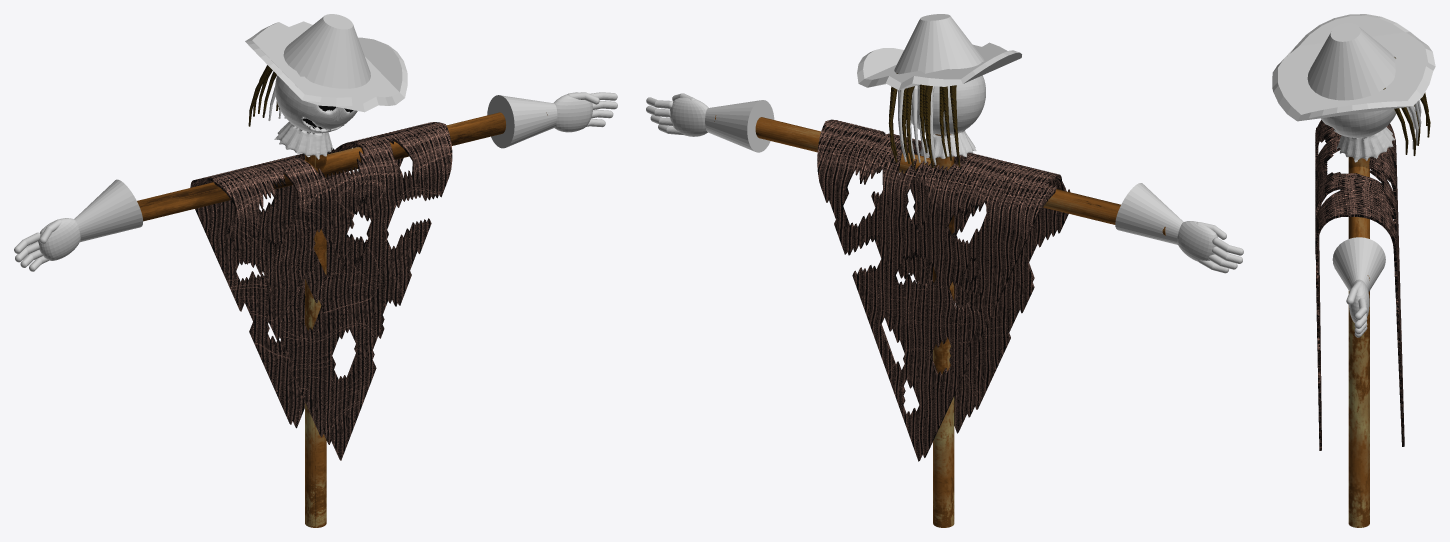
File: Пугало2.fbx
The picture shows the model from 3 angles, left to right: view 1: azimuth 30°, elevation 25°; view 2: azimuth 150°, elevation 25°; view 3: azimuth 270°, elevation 25°; orthographic projection.
Parts seen in each view (by area): view 1: Plane, Сфера.024, Окружность.001, Retopo_Сфера, Сфера.008; view 2: Plane, Сфера.024, Окружность.001, Сфера.008, Retopo_Сфера; view 3: Сфера.024, Plane, Окружность.001, Retopo_Сфера, Сфера.008.
Boxes of the visible parts, bbox=[...] form: Plane: bbox=[190, 122, 452, 460]; Сфера.024: bbox=[14, 14, 617, 271]; Окружность.001: bbox=[137, 112, 547, 527]; Retopo_Сфера: bbox=[274, 75, 357, 159]; Сфера.008: bbox=[248, 65, 285, 126]; Plane: bbox=[817, 119, 1070, 461]; Сфера.024: bbox=[646, 14, 1243, 273]; Окружность.001: bbox=[714, 115, 1165, 527]; Сфера.008: bbox=[888, 73, 960, 167]; Retopo_Сфера: bbox=[911, 75, 985, 158]; Сфера.024: bbox=[1272, 14, 1435, 337]; Plane: bbox=[1315, 120, 1404, 450]; Окружность.001: bbox=[1348, 157, 1369, 527]; Retopo_Сфера: bbox=[1321, 109, 1396, 162]; Сфера.008: bbox=[1383, 57, 1430, 155].
Bounding box in the file's own units: 1077 × 864 × 255.
